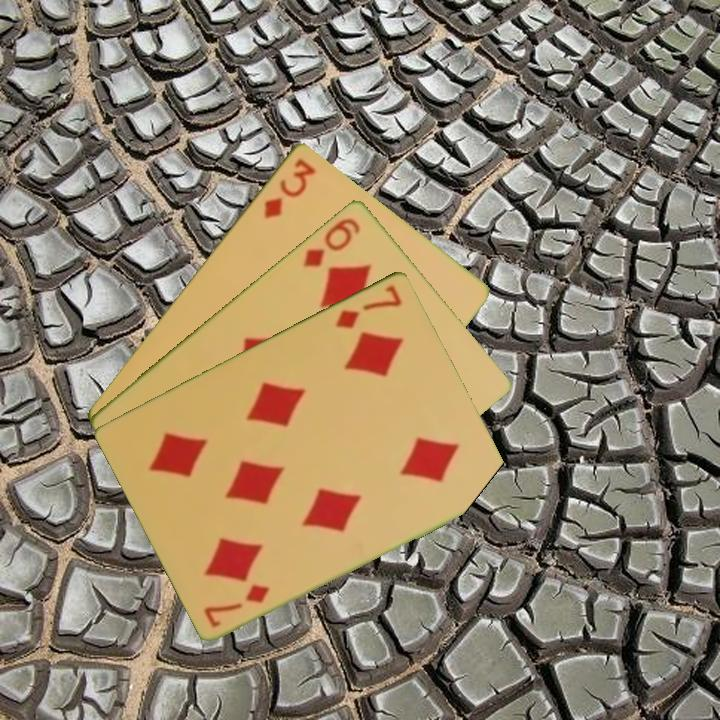3d: (260, 154, 319, 222)
6d: (299, 213, 364, 270)
7d: (332, 281, 405, 332), (200, 580, 273, 631)
